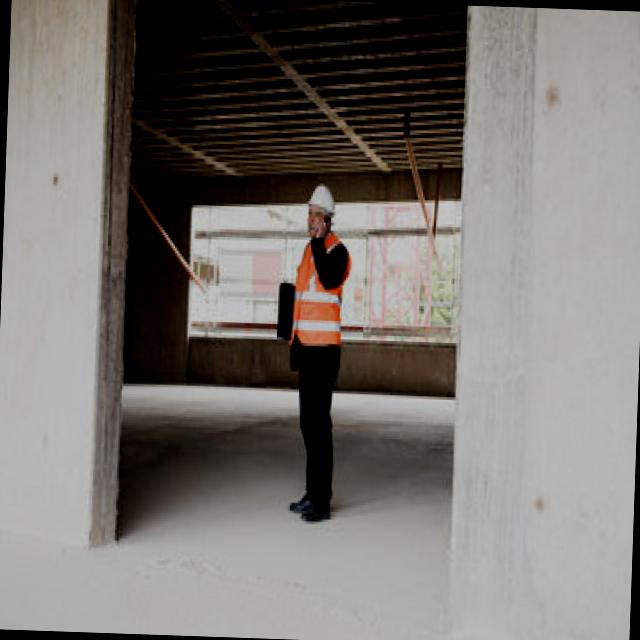helmet: (306, 184, 336, 218)
vest: (284, 226, 352, 352)
